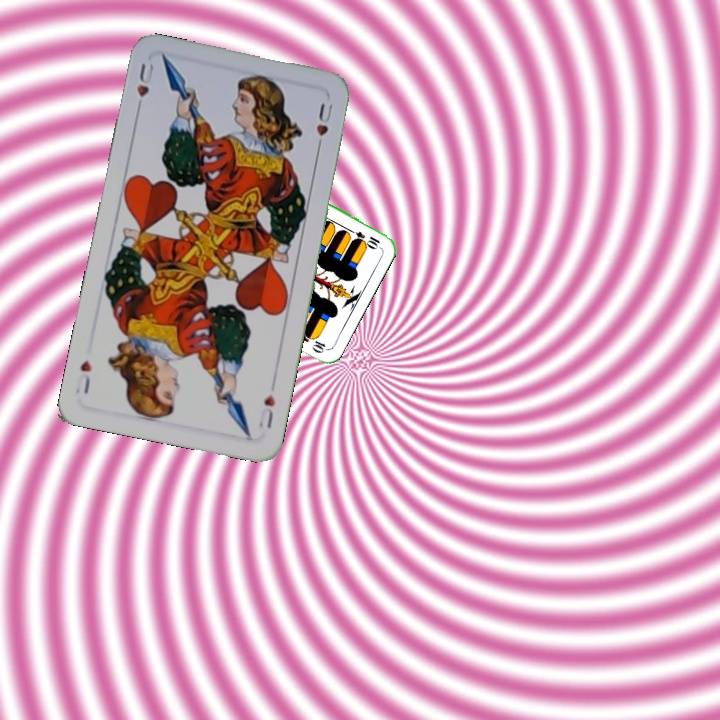E10: (343, 225, 383, 251)
HU: (132, 59, 157, 116), (254, 390, 278, 431)
